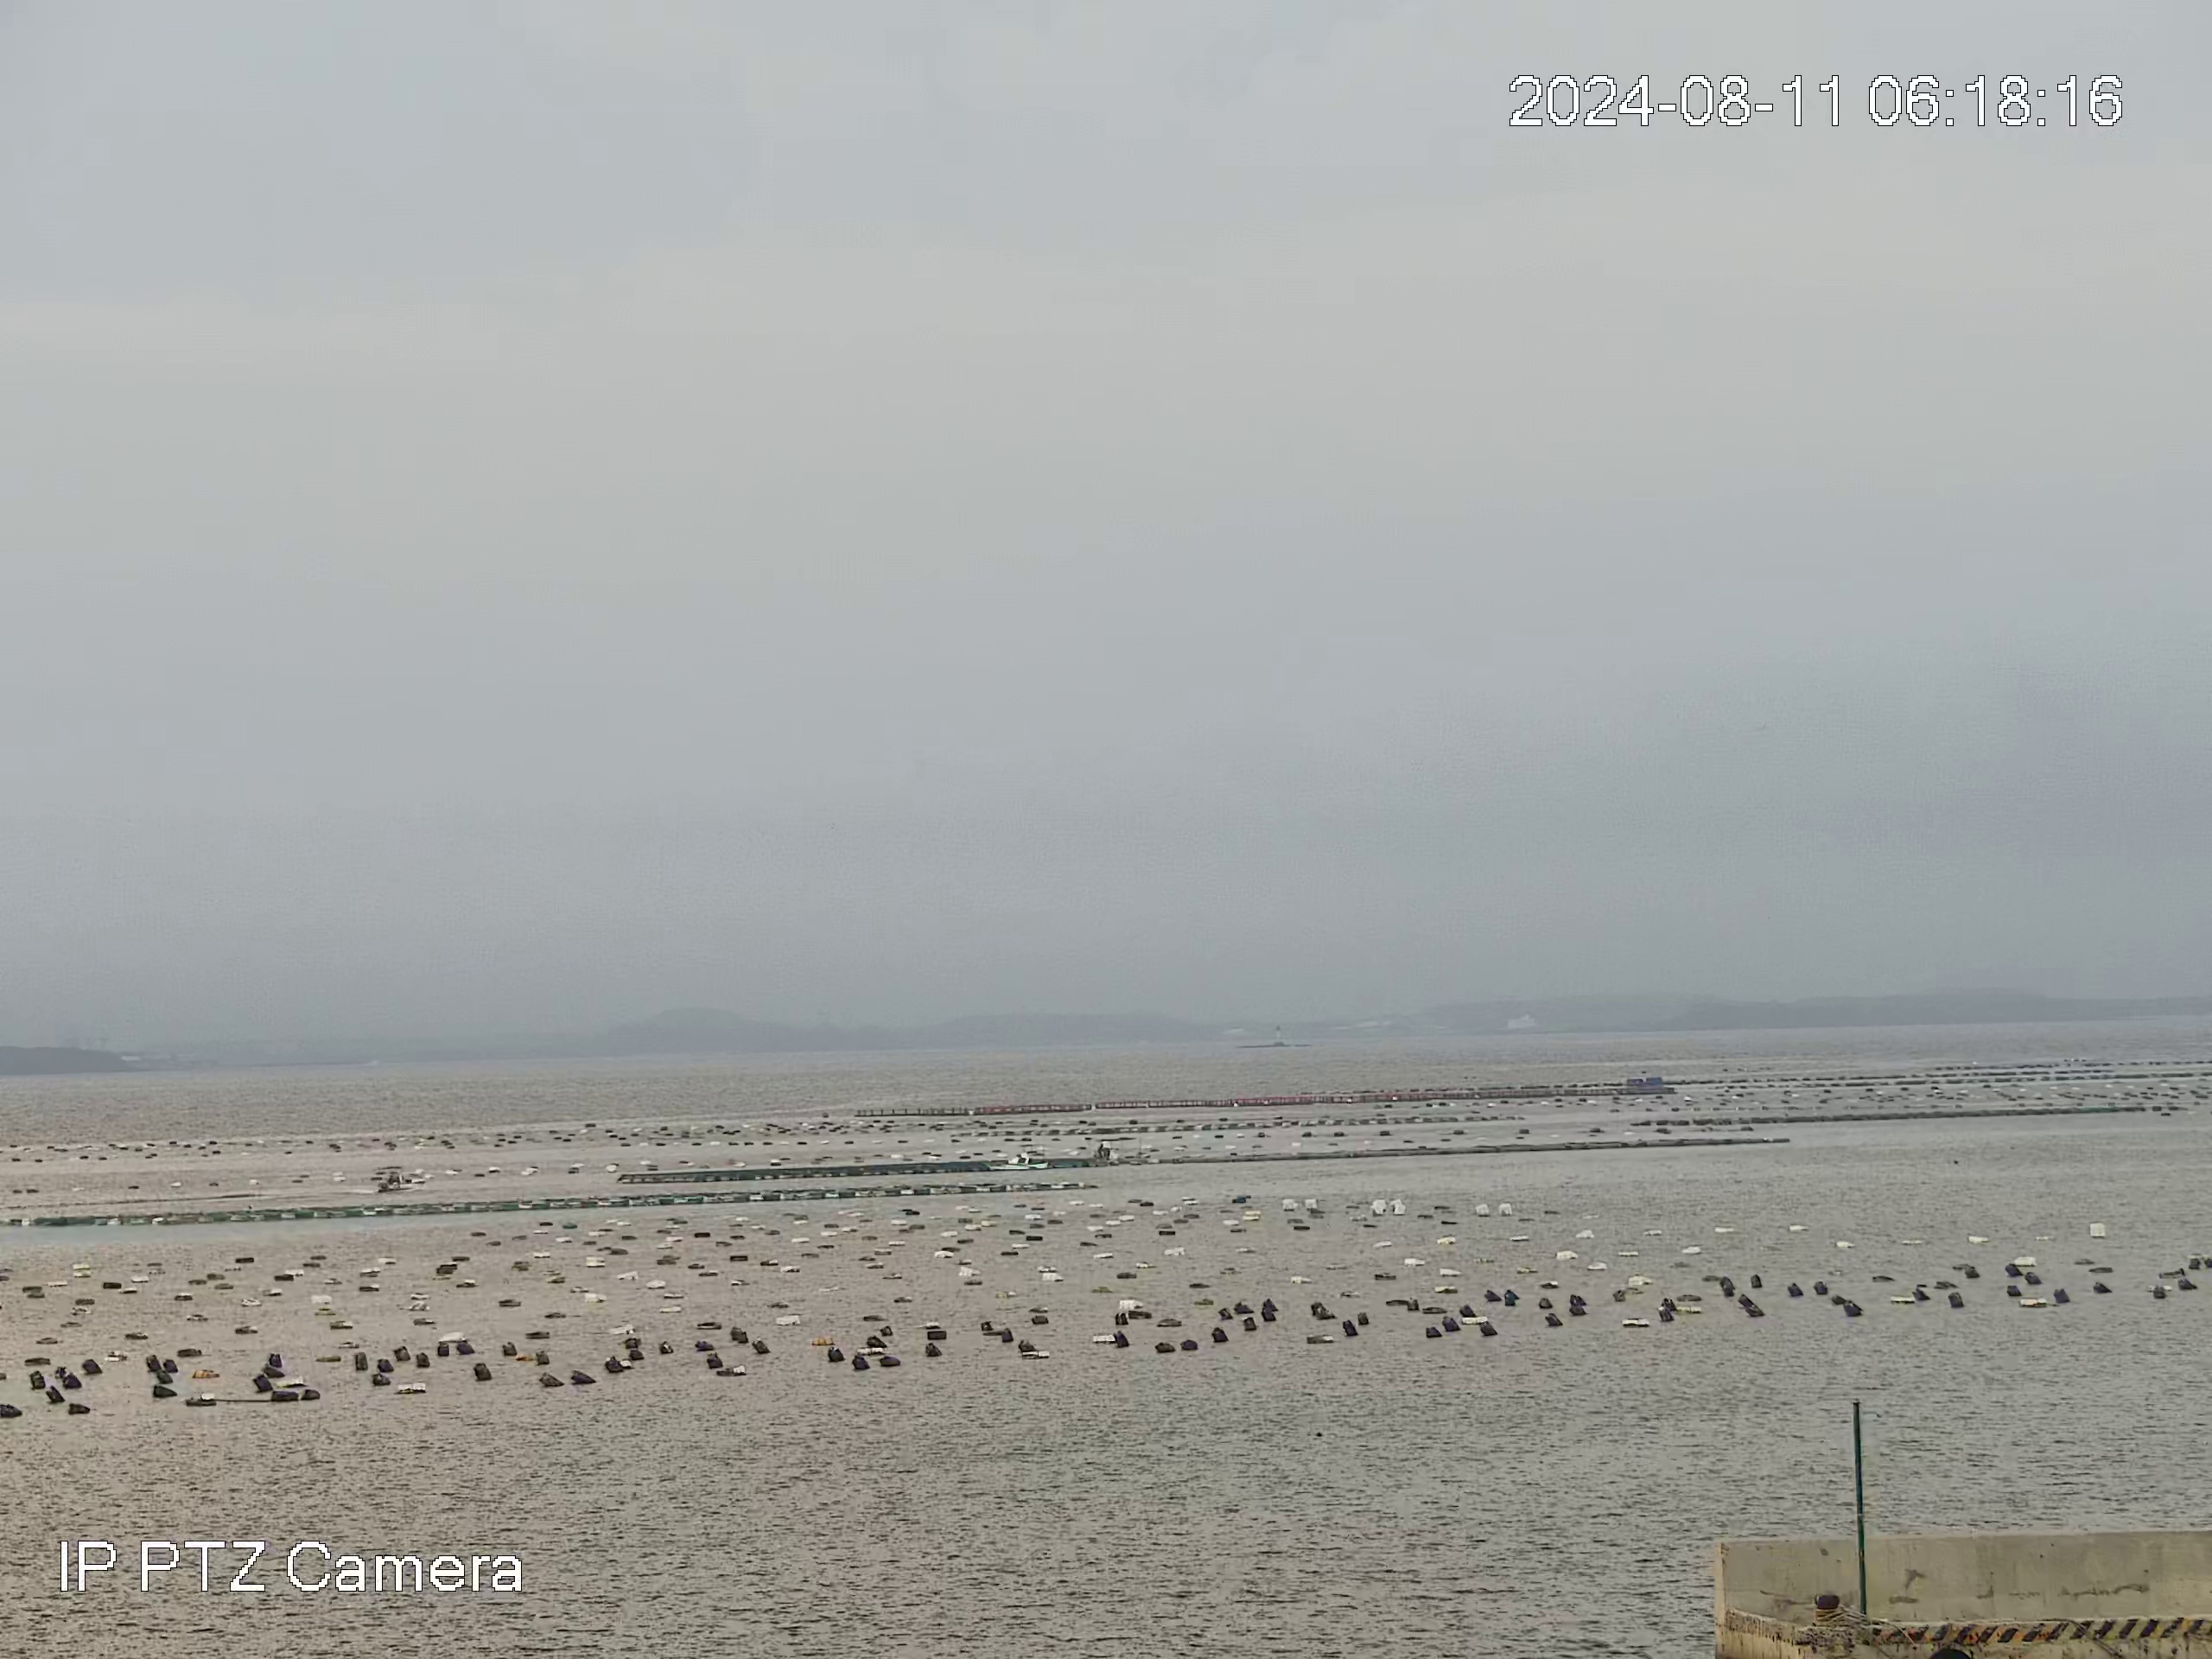boat: (370, 1165, 428, 1194), (979, 1149, 1050, 1173)
